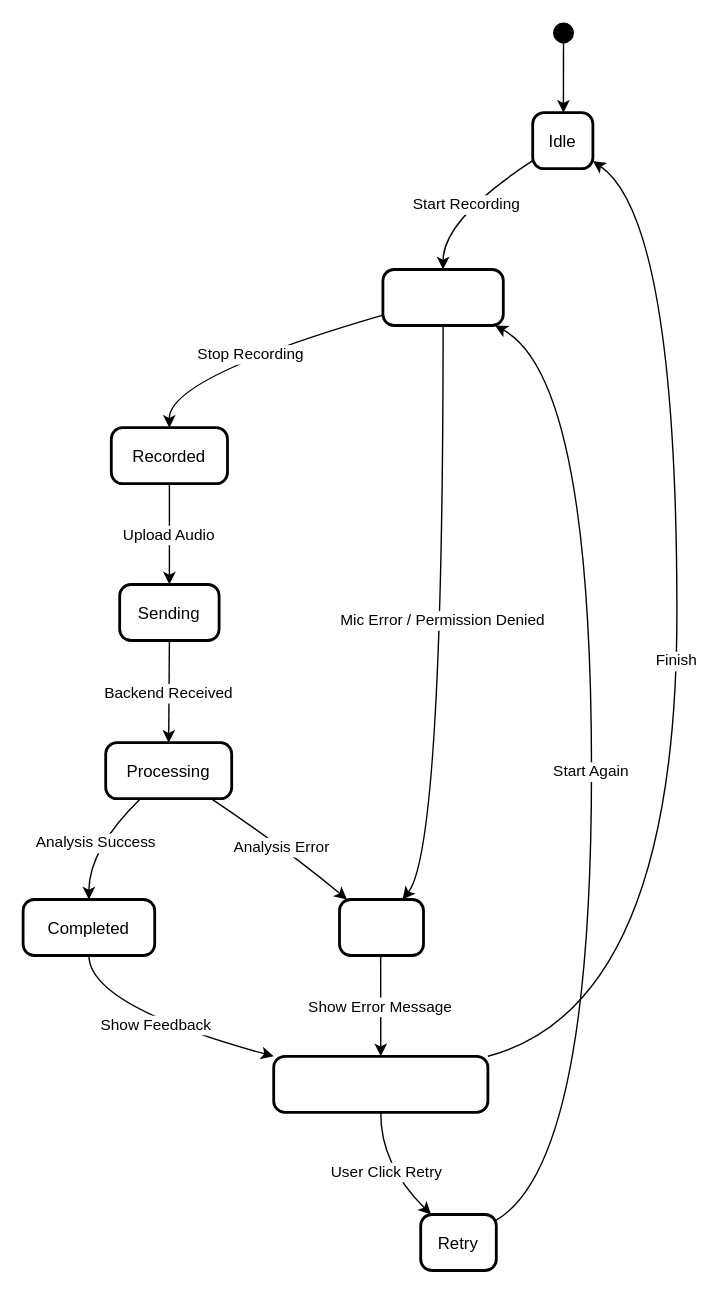
This 722x1294 diagram has some shape labels left out. Each missing label, with the centre of its shape:
Failed: (x=380, y=926)
FeedbackDisplayed: (x=380, y=1083)
Recording: (x=442, y=296)
